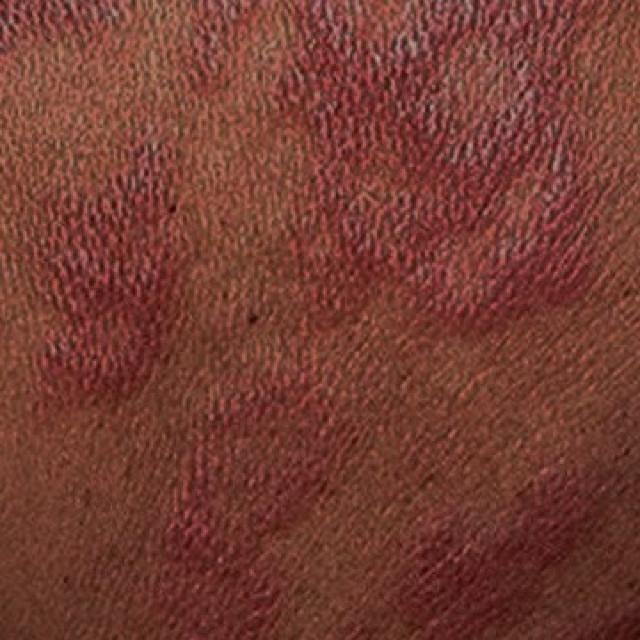Leprosy: (278, 0, 620, 340), (354, 432, 638, 638), (5, 149, 214, 423)
